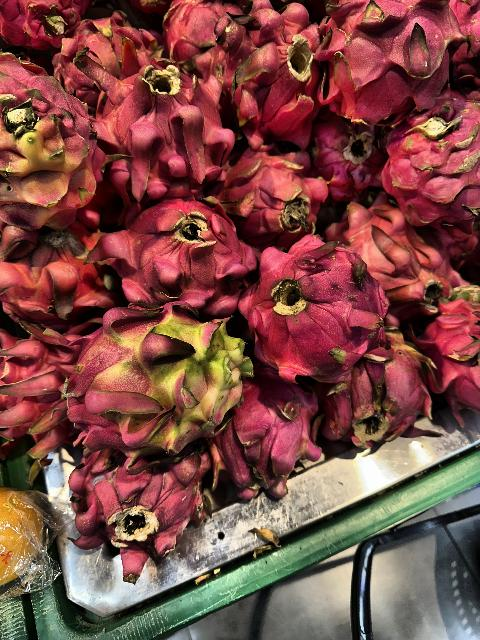buah-naga-belum-matang: (51, 300, 250, 458), (0, 52, 106, 246)
buah-naga-matang: (95, 52, 232, 194), (240, 247, 380, 381), (62, 446, 204, 572), (104, 192, 256, 308), (311, 342, 449, 456), (318, 0, 462, 106), (325, 192, 447, 314), (205, 386, 324, 506), (209, 1, 312, 134), (224, 128, 318, 248), (1, 324, 74, 468), (388, 111, 480, 221), (418, 293, 480, 412), (55, 19, 145, 85)
